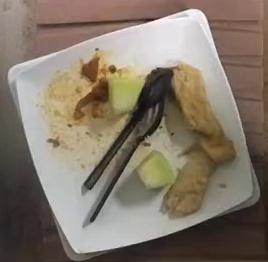fruit: (138, 151, 177, 188), (108, 75, 145, 114)
unknown: (164, 63, 234, 212)
